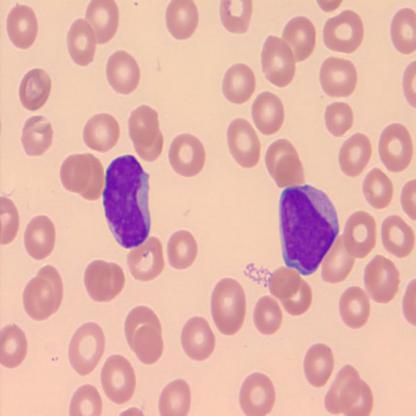Blast: (277, 181, 340, 278), (100, 153, 152, 249)
